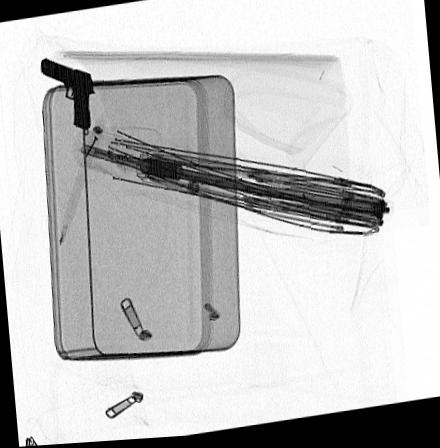Gun: (40, 60, 95, 131)
